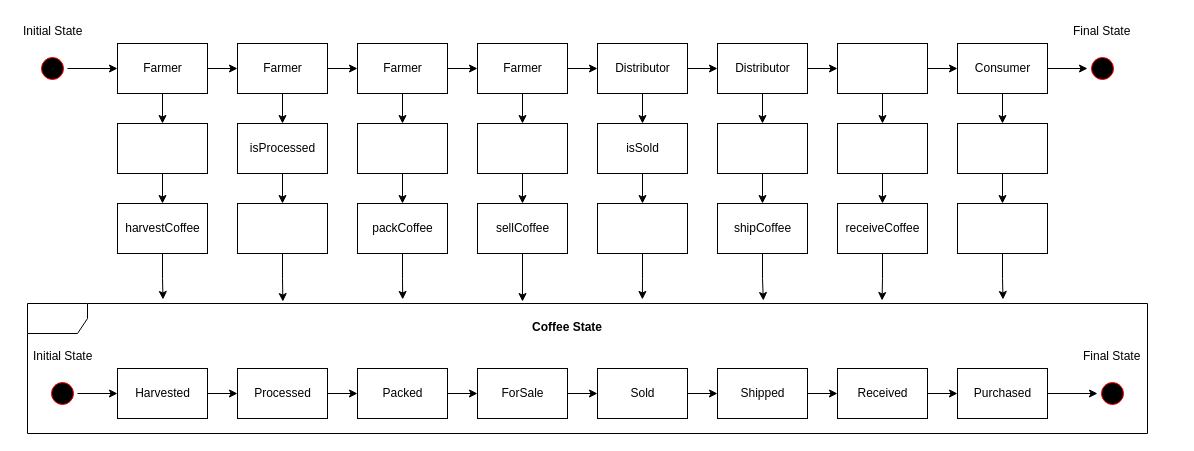
Some shapes in this 1194 by 451 pixel diagram are drawn without their labels. Here are the shapes that lost their labels. From the top down, the centre of each, then its label:
At pixel 882 68: "Retailer".
At pixel 162 148: "isHarvested".
At pixel 402 148: "isPacked".
At pixel 522 148: "isForSale".
At pixel 762 148: "isShipped".
At pixel 882 148: "isReceived".
At pixel 1002 148: "isPurchased".
At pixel 282 228: "processCoffee".
At pixel 642 228: "buyCoffee".
At pixel 1002 228: "purchaseCoffee".
